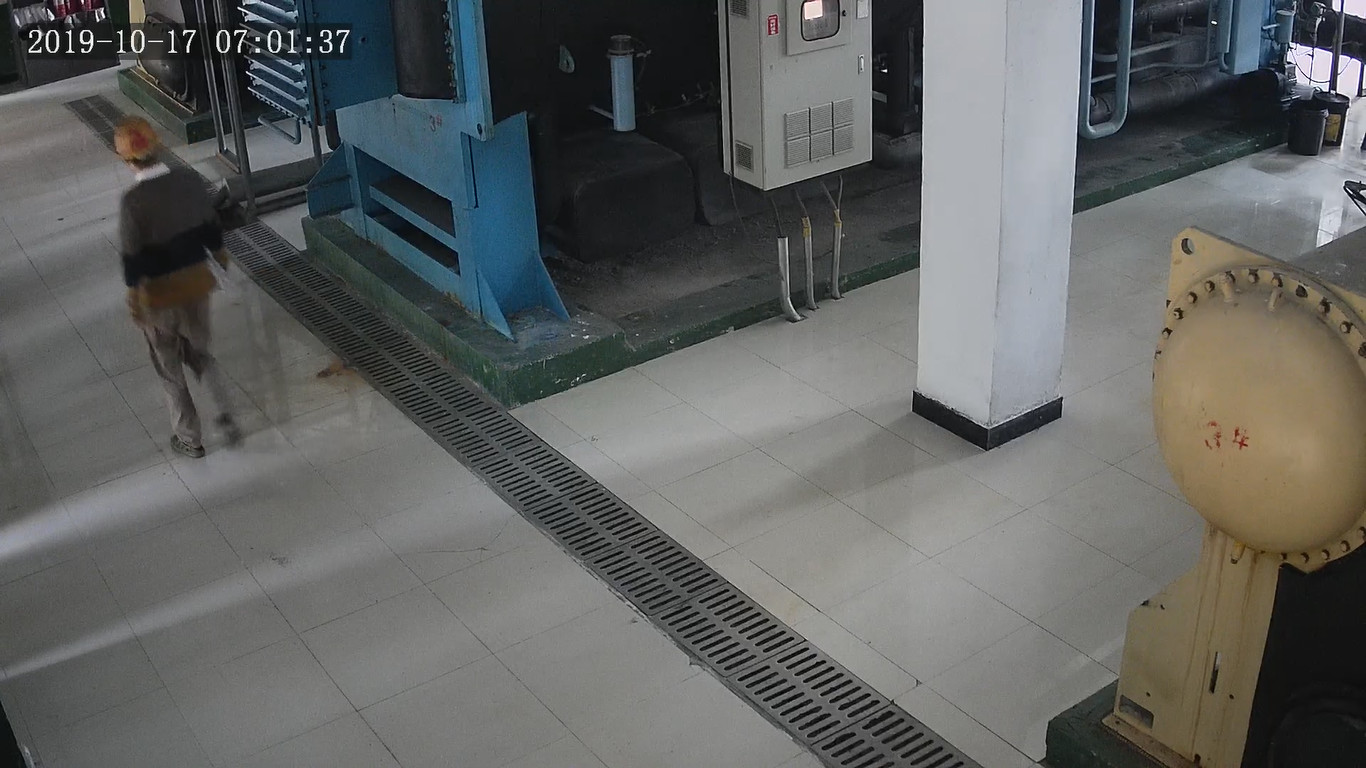helmet: (111, 115, 161, 160)
